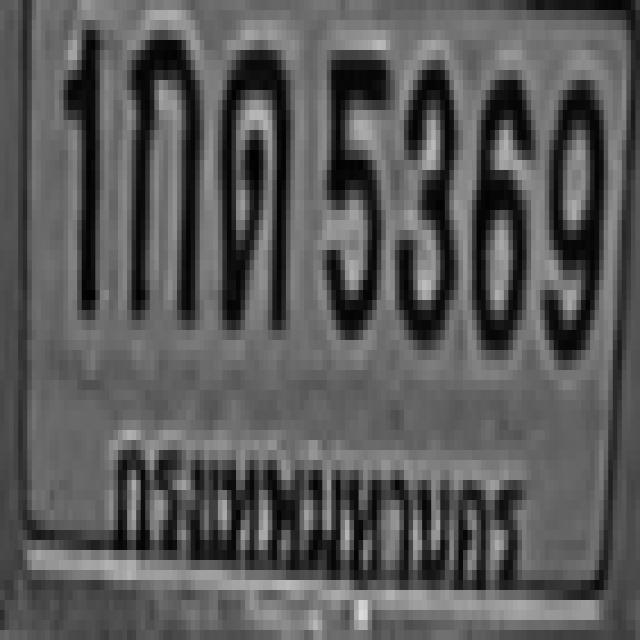1: (61, 23, 99, 318)
10GorGai: (127, 20, 201, 327)
29DorDek: (218, 40, 289, 336)
3: (394, 52, 458, 342)
5: (322, 40, 386, 330)
6: (469, 67, 532, 347)
9: (544, 74, 603, 354)
Bangkok: (100, 410, 532, 621)
